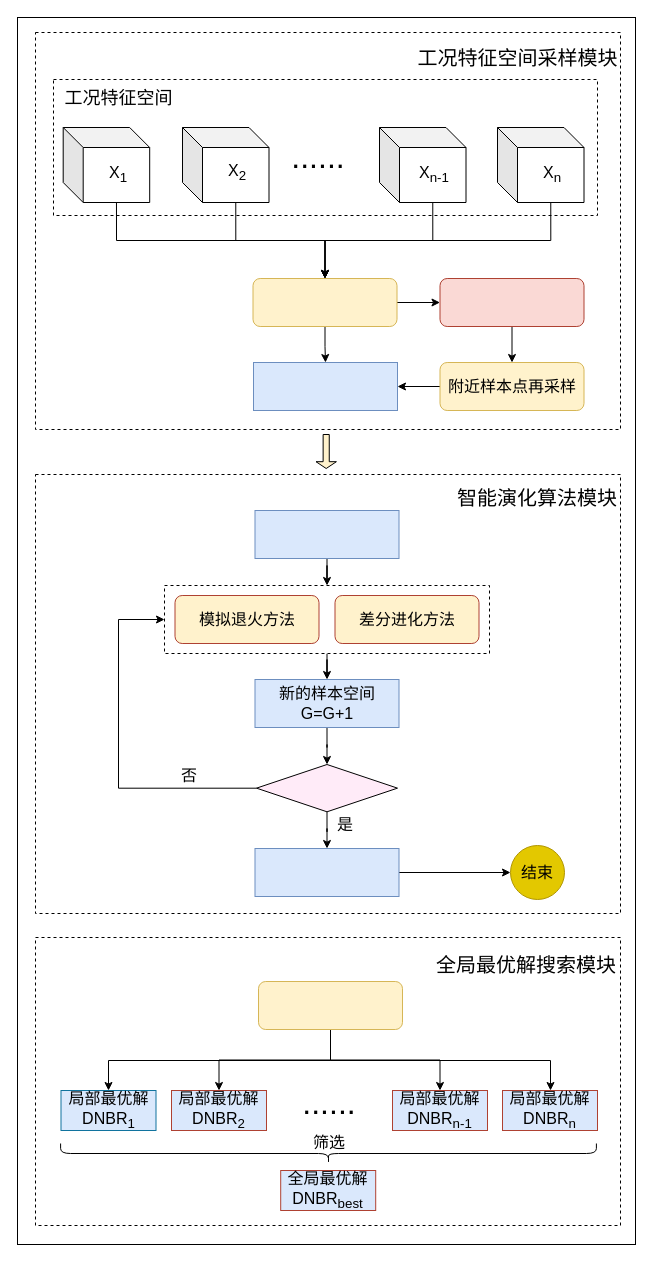
The diagram is 653 pixels wide and 1262 high, and some of its shapes have lost their labels. Here are the shapes that lost their labels. From the top down, the centre of each, then its label:
(x=324, y=302): 网格化采样策略
(x=511, y=302): 取DNBR的 Top k小个样本
(x=325, y=386): 最终采样的样本
(x=326, y=534): 初始化样本空间G=0
(x=327, y=788): G>GEN?
(x=326, y=872): 最小DNBR对应的样本特征空间
(x=330, y=1005): 共轭梯度方法
